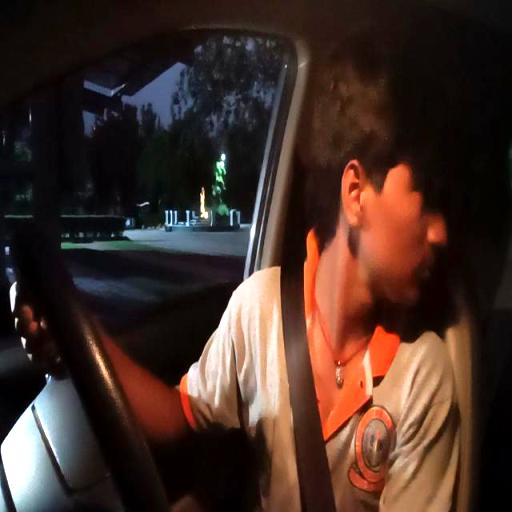Reaching_behind: (210, 45, 459, 512)
